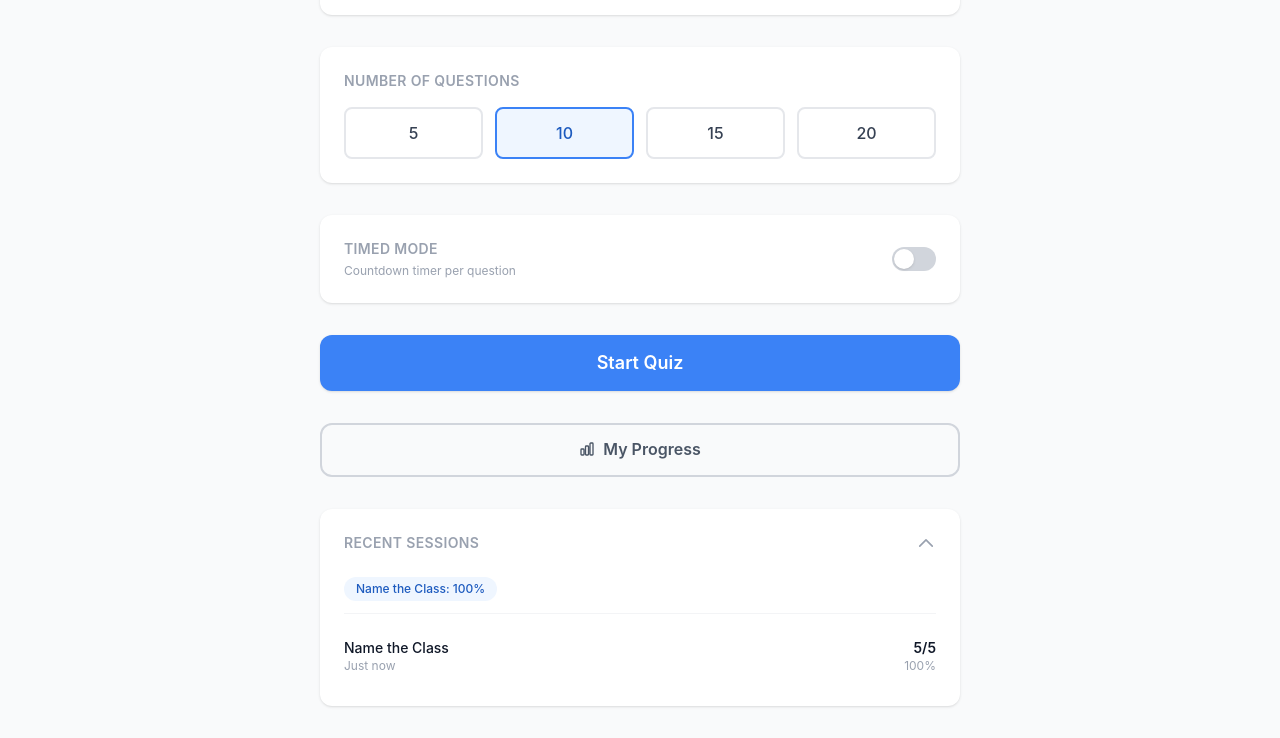
Test: App › returns to config from error state via Back button
(page scrolled)
Click the button "Start Quiz" at (640, 363), box [320,335,960,391]
(page scrolled)
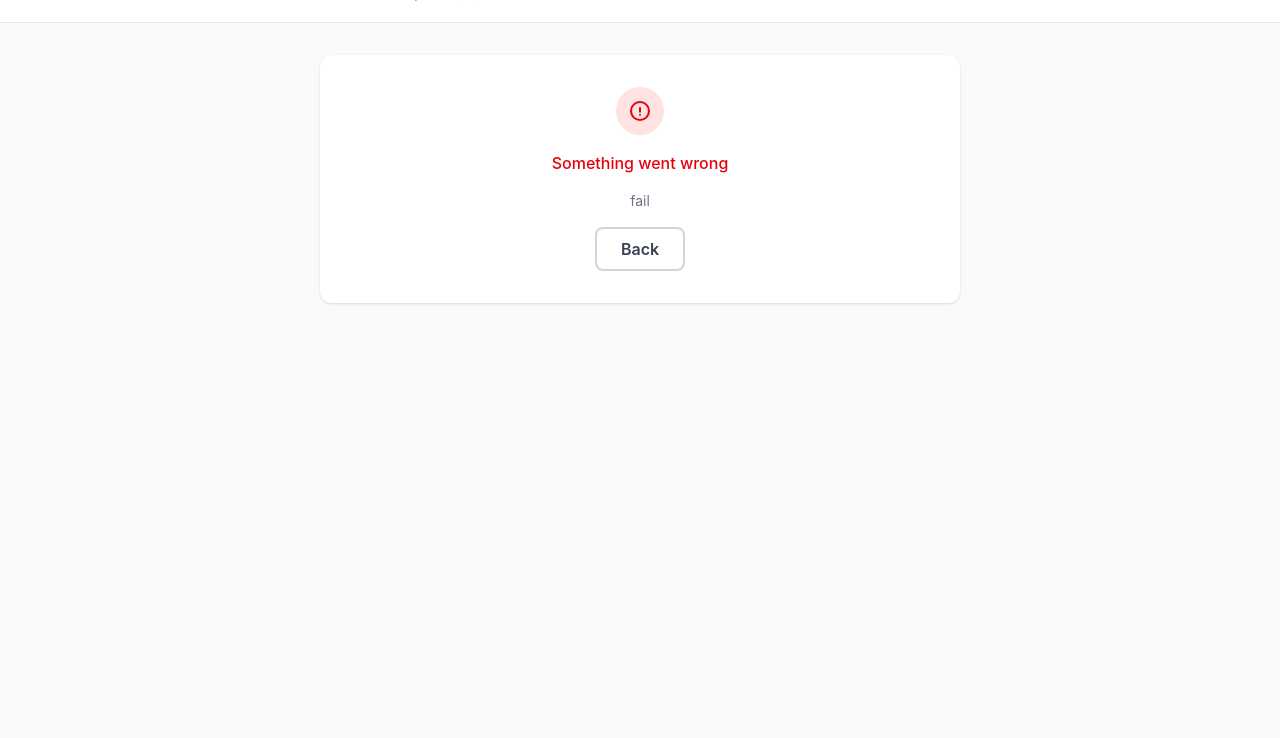
Result: the text "Something went wrong" is shown at [552,153,728,173]
Click the button "Back" at (640, 249), box [595,227,685,271]
(page scrolled)
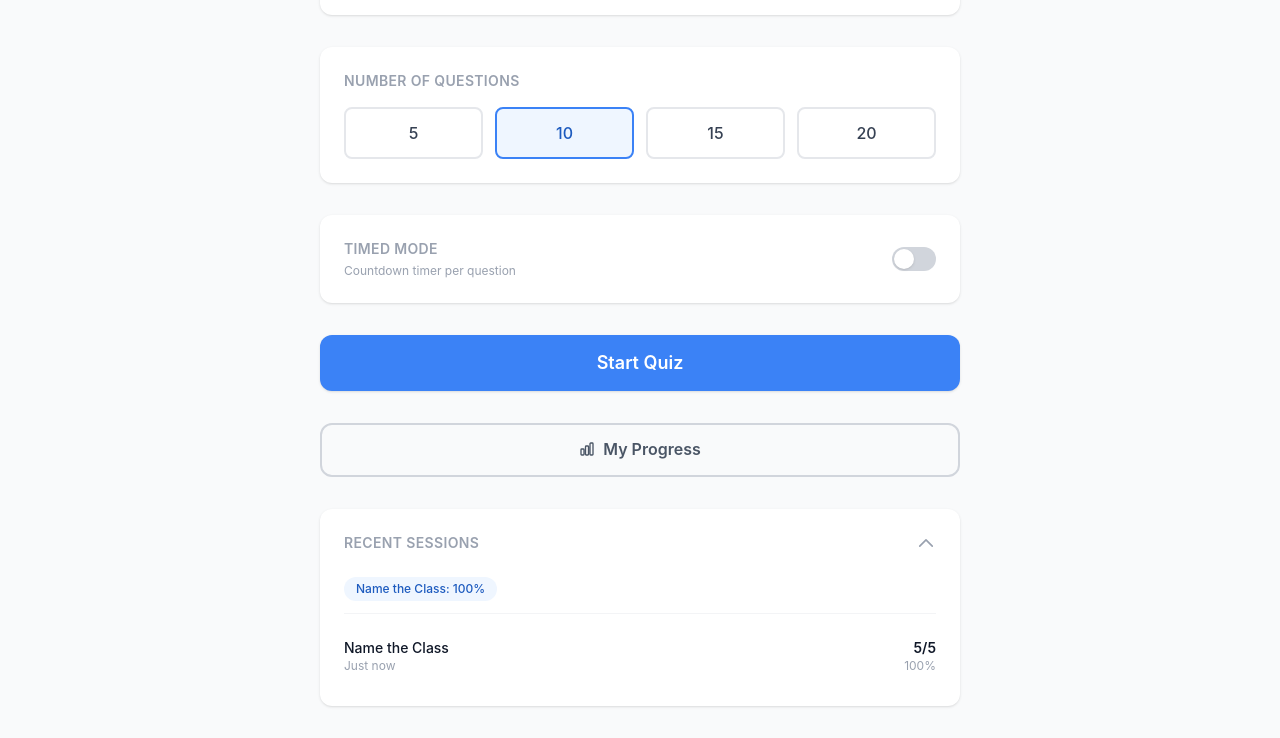
Result: the button "Start Quiz" is shown at [320,335,960,391]
